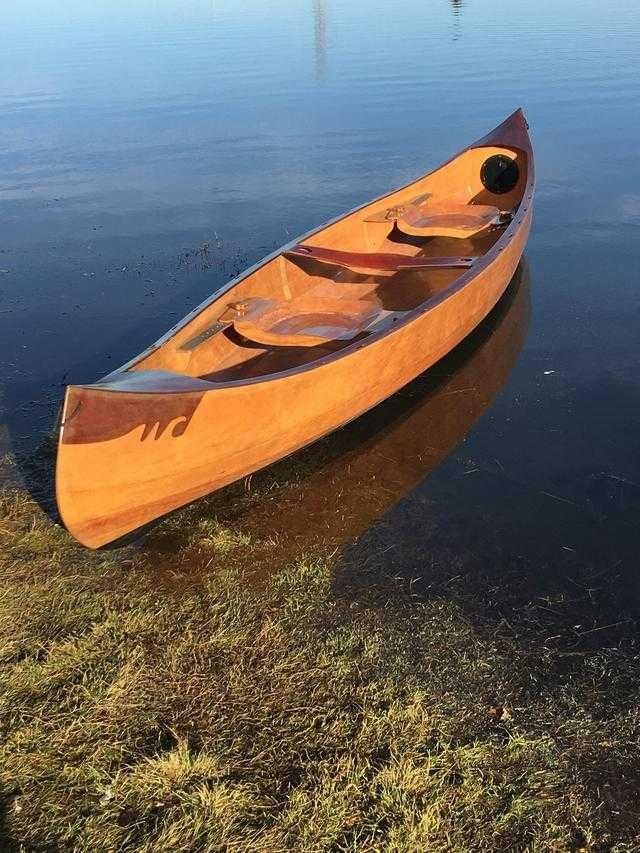kayak: (54, 106, 536, 552)
